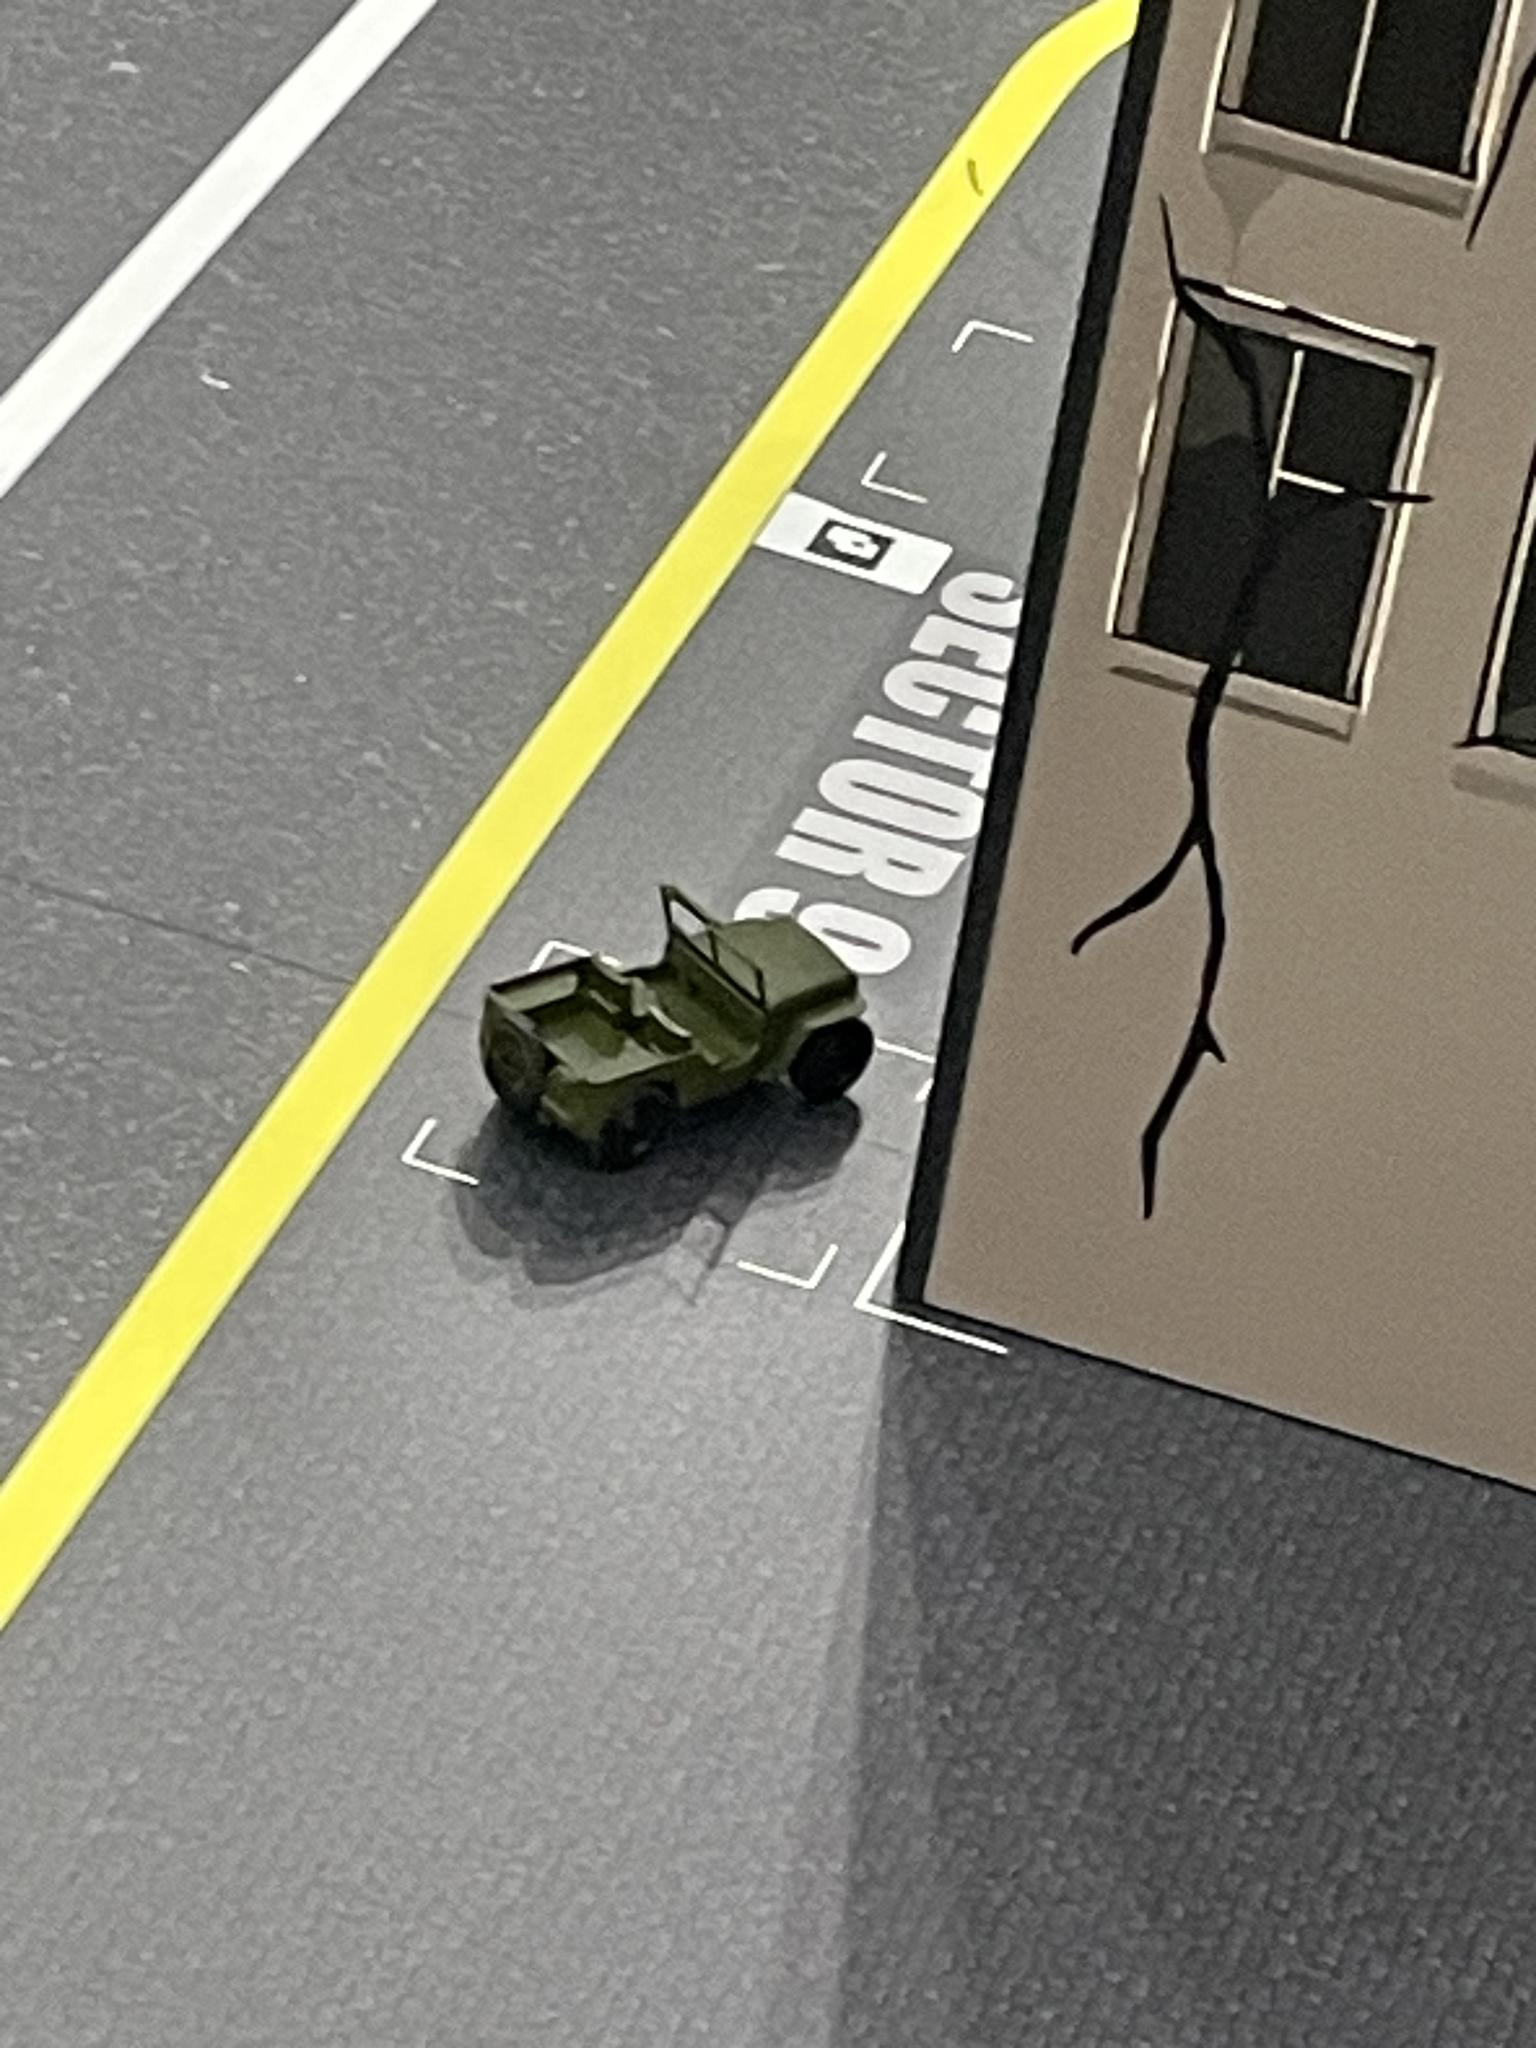Car: (478, 892, 881, 1184)
